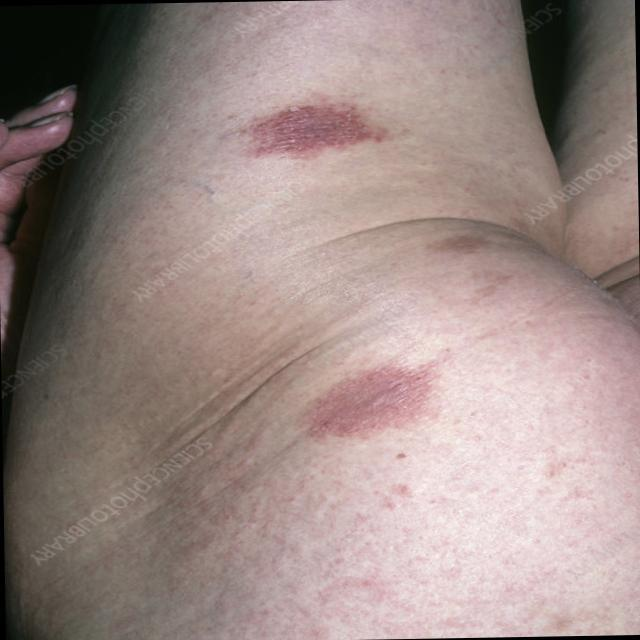Eczema: (306, 340, 436, 444), (249, 87, 403, 174)
